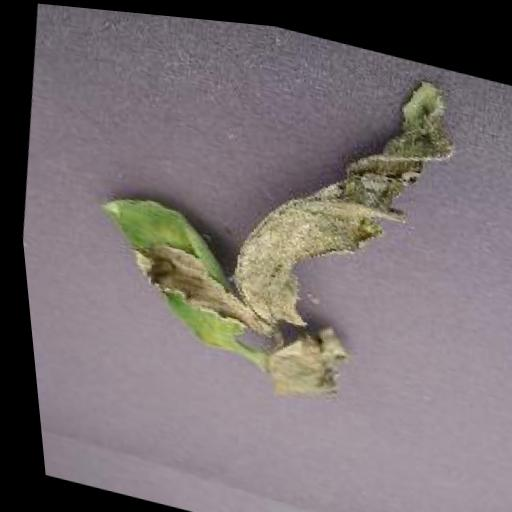Late Blight: (62, 5, 487, 426)
